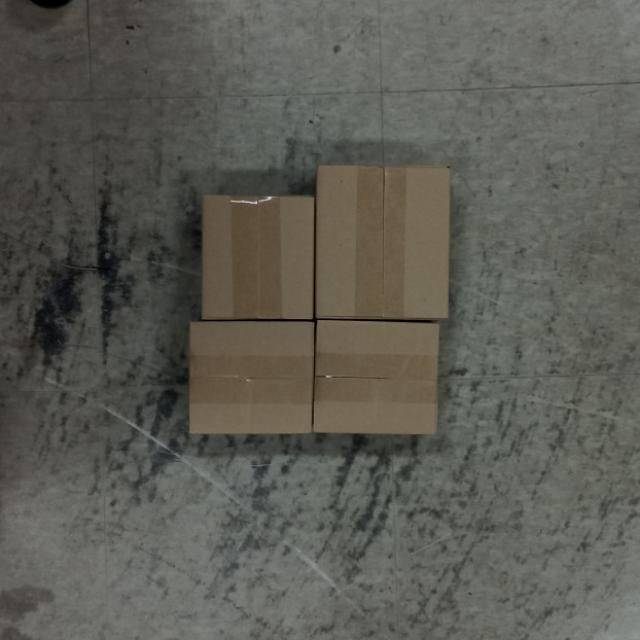box: (314, 167, 449, 325), (188, 322, 320, 438), (203, 194, 319, 324), (313, 321, 442, 436)
